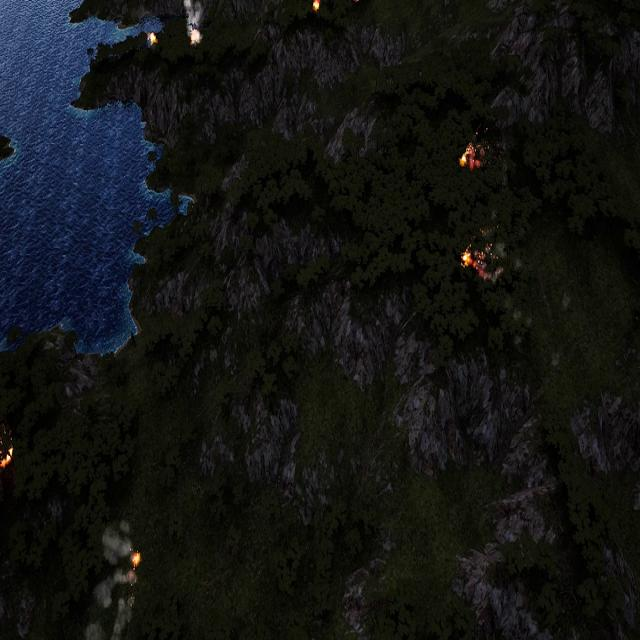fire: (460, 249, 487, 279), (459, 146, 479, 171), (0, 438, 12, 470), (132, 552, 142, 569), (189, 30, 200, 45), (148, 29, 157, 43), (313, 0, 321, 12)
smoke: (78, 518, 134, 640), (180, 0, 205, 37)
